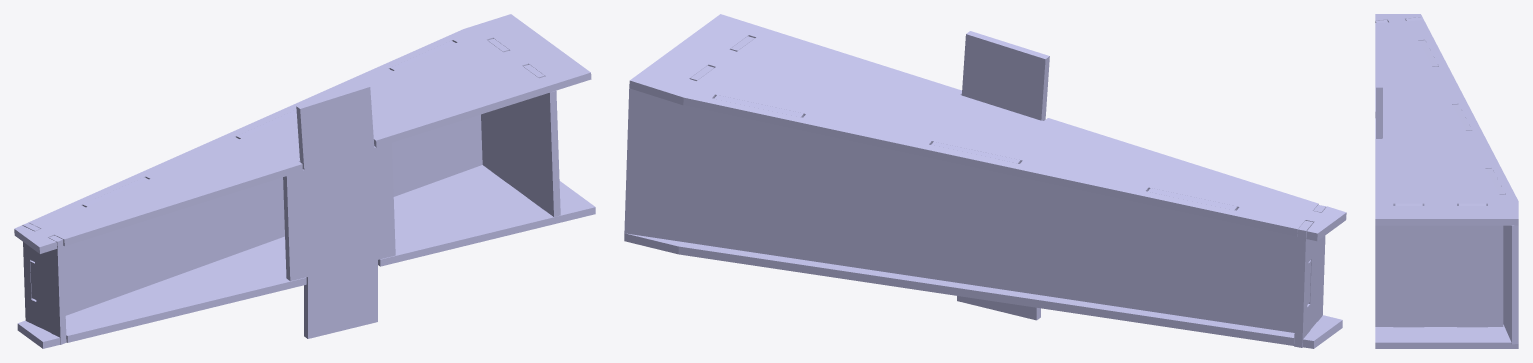
Rendered from slide_short.dae.
3 views of the same model, side by side, from view 1: azimuth 30°, elevation 25°; view 2: azimuth 150°, elevation 25°; view 3: azimuth 270°, elevation 25° (orthographic). The views are drawn at different scales.
Parts seen in each view (by area): view 1: node3, node5, node1, node0, node4, node2; view 2: node1, node3, node0, node5, node2; view 3: node3, node4, node0, node1, node5.
Part boxes in pixels (x1,y1,x2,y2): node3: [14, 14, 591, 253]; node5: [283, 84, 395, 338]; node1: [30, 40, 482, 315]; node0: [17, 165, 595, 348]; node4: [481, 38, 560, 216]; node2: [22, 222, 66, 344]; node1: [624, 88, 1311, 332]; node3: [629, 14, 1346, 241]; node0: [624, 233, 1342, 348]; node5: [957, 31, 1049, 320]; node2: [1294, 205, 1326, 347]; node3: [1375, 14, 1518, 225]; node4: [1375, 203, 1503, 327]; node0: [1375, 118, 1518, 348]; node1: [1419, 40, 1518, 344]; node5: [1376, 61, 1382, 138].
Size of the model in its own units: 0.3173 by 0.0789 by 0.129.
